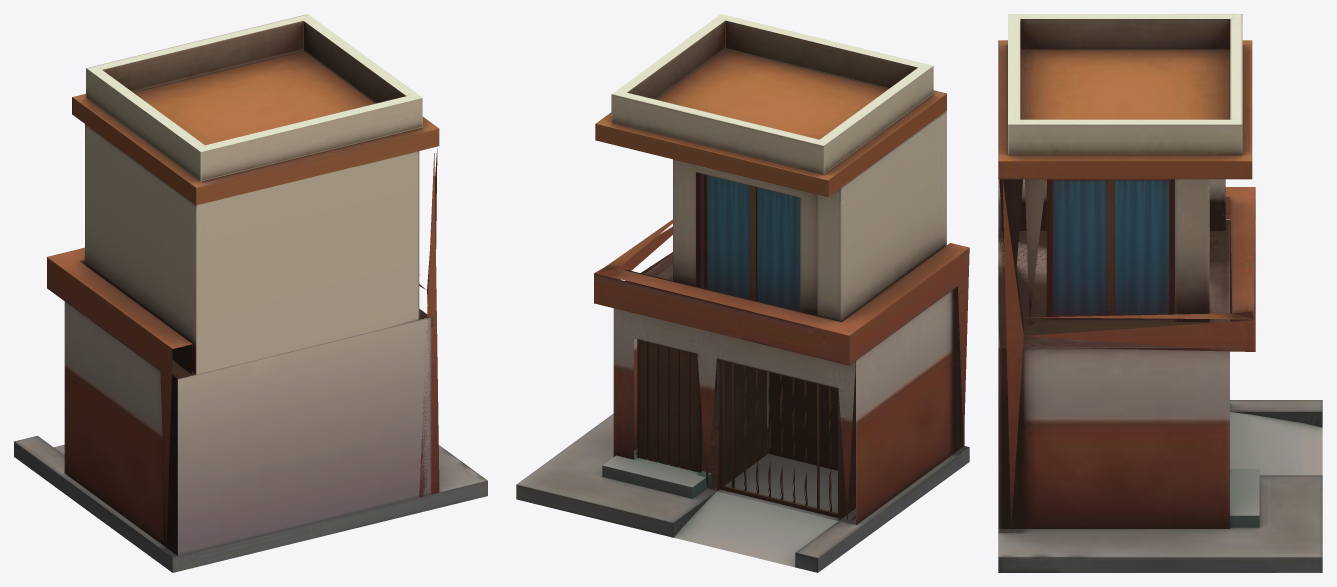
Rendered from casa-dos-pisos.glb.
3 views of the same model, side by side, from view 1: azimuth 30°, elevation 25°; view 2: azimuth 150°, elevation 25°; view 3: azimuth 270°, elevation 25° (orthographic). The views are drawn at different scales.
Parts seen in each view (by area): view 1: Piso 1, Piso 2, Techo muros, Base techo.002, Soportes, Piso3; view 2: Piso 1, Piso 2, Techo muros, Base techo.002, Soportes, Piso3, Puerta vidrio, Puerta 2, Rampa, Rejas, Escalon 2; view 3: Piso 1, Base techo.002, Piso3, Techo muros, Puerta vidrio, Soportes, Piso 2, Rampa, Escalon 2.
Part boxes in pixels (box(x1,y1,x2,y2)): Piso 1: box(64, 301, 431, 556); Piso 2: box(85, 124, 419, 374); Techo muros: box(86, 14, 422, 181); Base techo.002: box(72, 50, 439, 205); Soportes: box(47, 148, 439, 550); Piso3: box(14, 436, 487, 572); Piso 1: box(613, 253, 964, 524); Piso 2: box(673, 110, 946, 322); Techo muros: box(611, 14, 933, 174); Base techo.002: box(595, 49, 946, 196); Soportes: box(594, 219, 969, 449); Piso3: box(516, 395, 969, 572); Puerta vidrio: box(696, 172, 800, 311); Puerta 2: box(637, 339, 701, 472); Rampa: box(674, 491, 838, 567); Rejas: box(719, 359, 842, 518); Escalon 2: box(602, 454, 711, 498); Piso 1: box(998, 221, 1229, 528); Base techo.002: box(998, 40, 1252, 179); Piso3: box(998, 400, 1322, 572); Techo muros: box(1008, 14, 1242, 154); Puerta vidrio: box(1046, 179, 1174, 319); Soportes: box(1002, 179, 1255, 532); Piso 2: box(998, 179, 1225, 330); Rampa: box(1230, 412, 1322, 475); Escalon 2: box(1230, 468, 1259, 527).
Size of the model in its own units: 6.17 by 7.66 by 5.38.
Materials: 11 (11 with a texture image).
